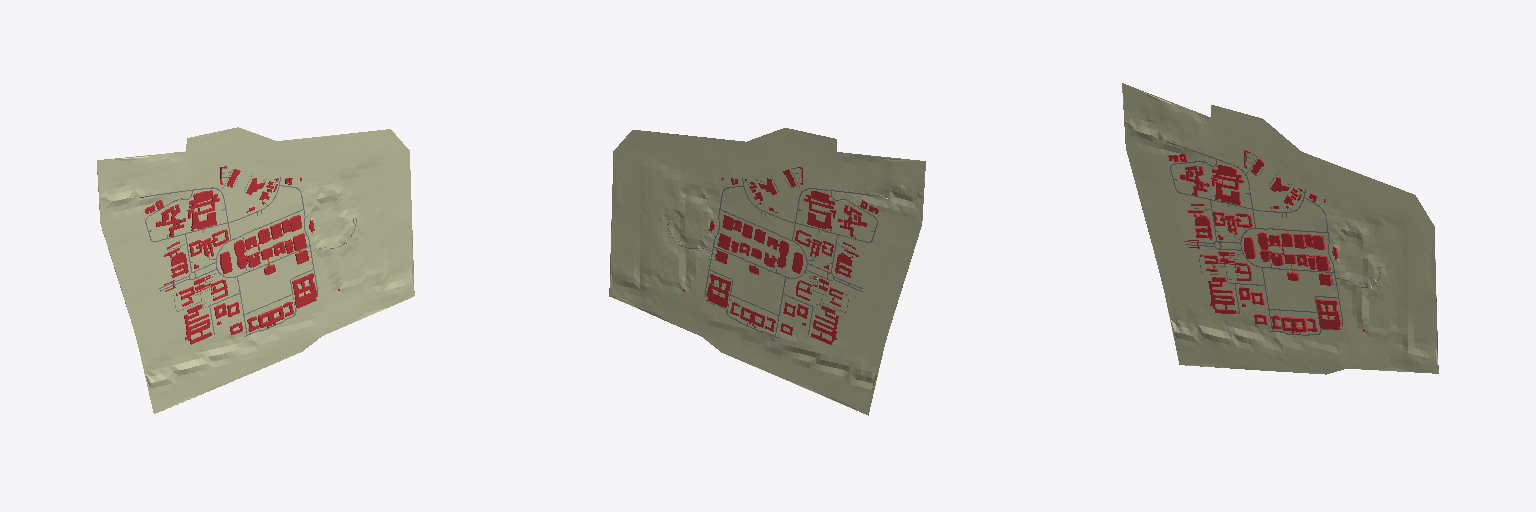
File: obj275D_cput3d.obj
3 renders of one model, left to right at view 1: azimuth 30°, elevation 25°; view 2: azimuth 150°, elevation 25°; view 3: azimuth 330°, elevation 25°, orthographic.
Visible parts, largest first — view 1: terrain01, [number redacted]; view 2: terrain01; view 3: terrain01, [number redacted].
Part boxes in pixels (bbox=[...]): terrain01: bbox=[97, 127, 414, 413]; [number redacted]: bbox=[292, 273, 317, 307]; terrain01: bbox=[609, 128, 925, 415]; terrain01: bbox=[1122, 83, 1438, 374]; [number redacted]: bbox=[1316, 299, 1341, 329].
Size of the model in its own units: 1389 by 1124 by 17.86.